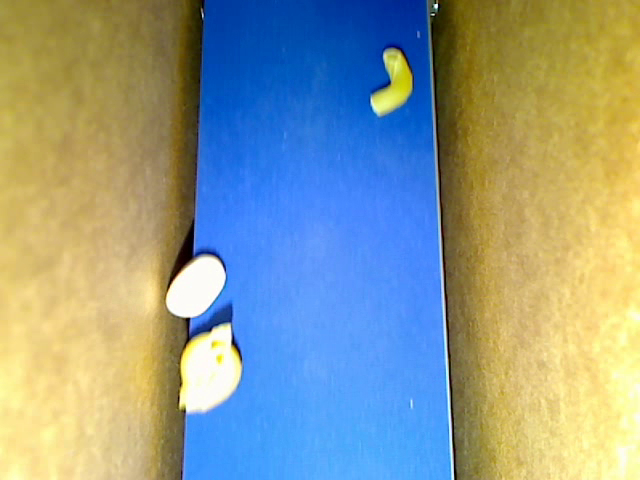elbow: (370, 48, 412, 115)
